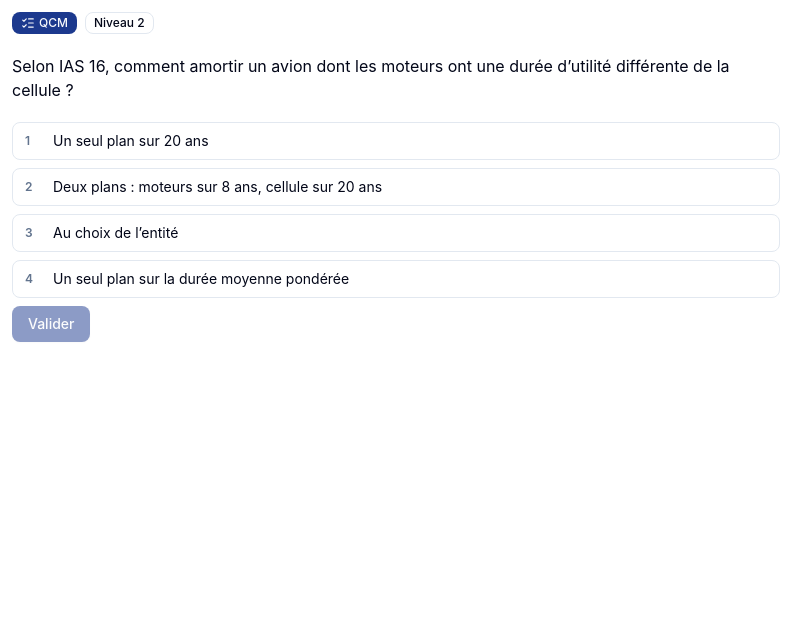
Scenario: ExercisePlayer › QCM : explication de chaque option après la réponse
Expected: the text "Approche par composants." is not shown
Click the radio button labelled "1 Un seul plan sur 20 ans": (131, 140) x1=12 y1=122 x2=780 y2=160
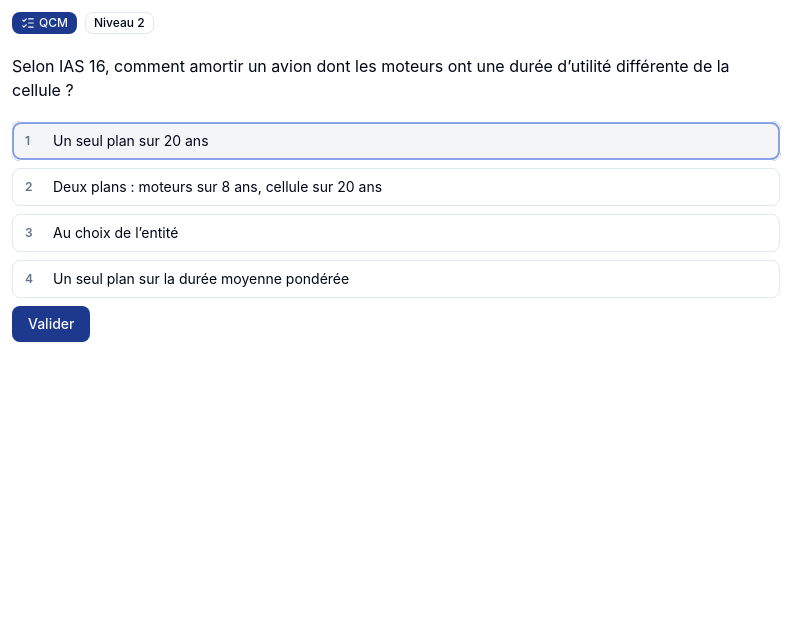
Click the button "Valider": (51, 324) x1=12 y1=306 x2=90 y2=342
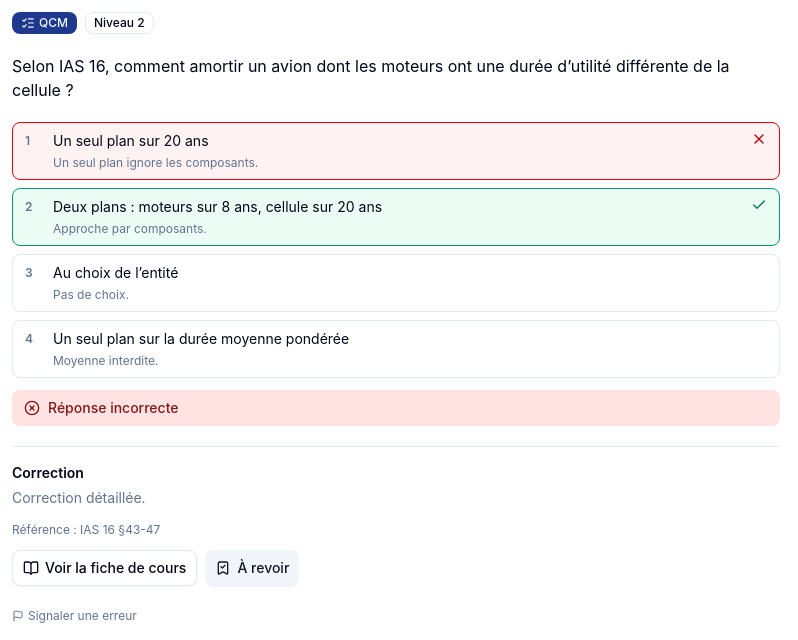
Result: the text "Un seul plan ignore les composants." is shown at x1=53 y1=155 x2=258 y2=170
Result: the text "Approche par composants." is shown at x1=53 y1=221 x2=207 y2=236
